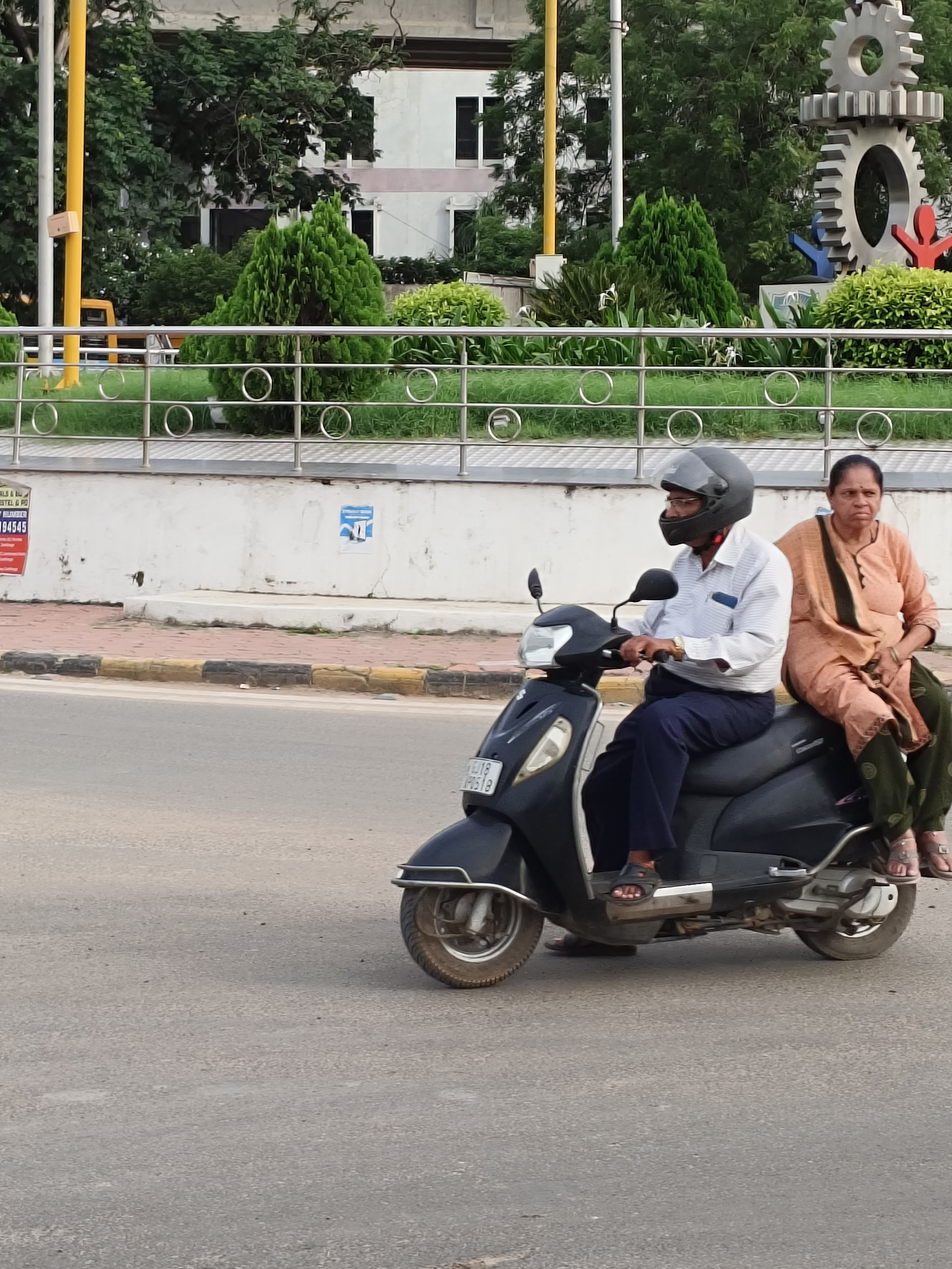BikeWithRider: (374, 432, 952, 998)
Helmet: (641, 435, 767, 556)
NoHelmet: (814, 448, 897, 541)
